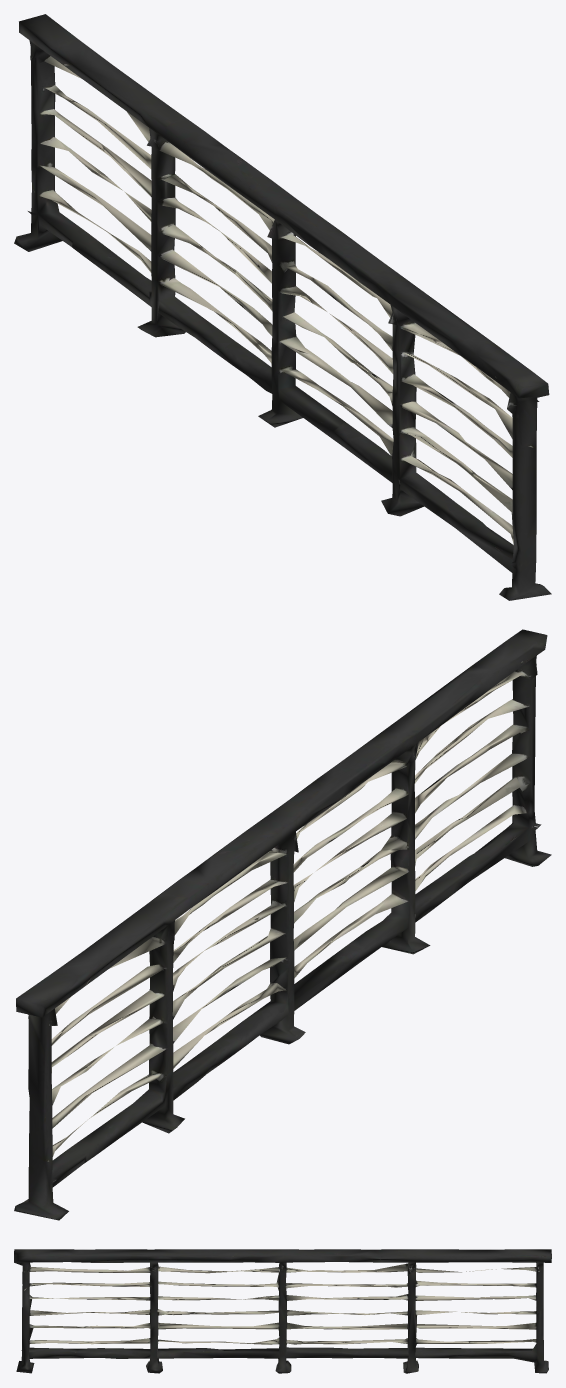
Rendered from railing.glb.
3 renders of one model, top to bottom at view 1: azimuth 30°, elevation 25°; view 2: azimuth 150°, elevation 25°; view 3: azimuth 270°, elevation 25°, orthographic. The views are drawn at different scales.
Visible parts, largest first — view 1: tripo_node_5353554f-809f-41a6-9e9d-e51547d97b27; view 2: tripo_node_5353554f-809f-41a6-9e9d-e51547d97b27; view 3: tripo_node_5353554f-809f-41a6-9e9d-e51547d97b27.
Boxes of the visible parts, <box> form: tripo_node_5353554f-809f-41a6-9e9d-e51547d97b27: <box>14,14,551,600</box>; tripo_node_5353554f-809f-41a6-9e9d-e51547d97b27: <box>14,629,551,1220</box>; tripo_node_5353554f-809f-41a6-9e9d-e51547d97b27: <box>14,1249,551,1373</box>.
Size of the model in its own units: 0.0523 by 0.2401 by 1.
Materials: 1 (1 with a texture image).
